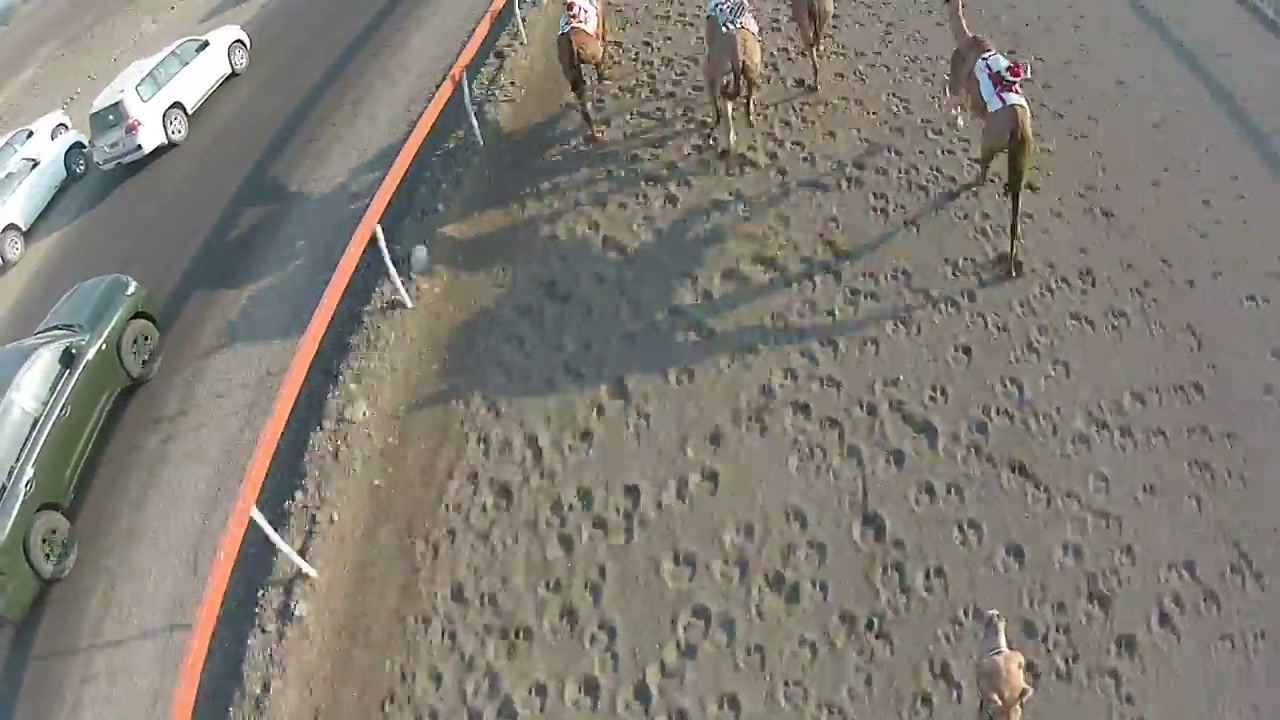animal_footprint: (256, 0, 1279, 718)
